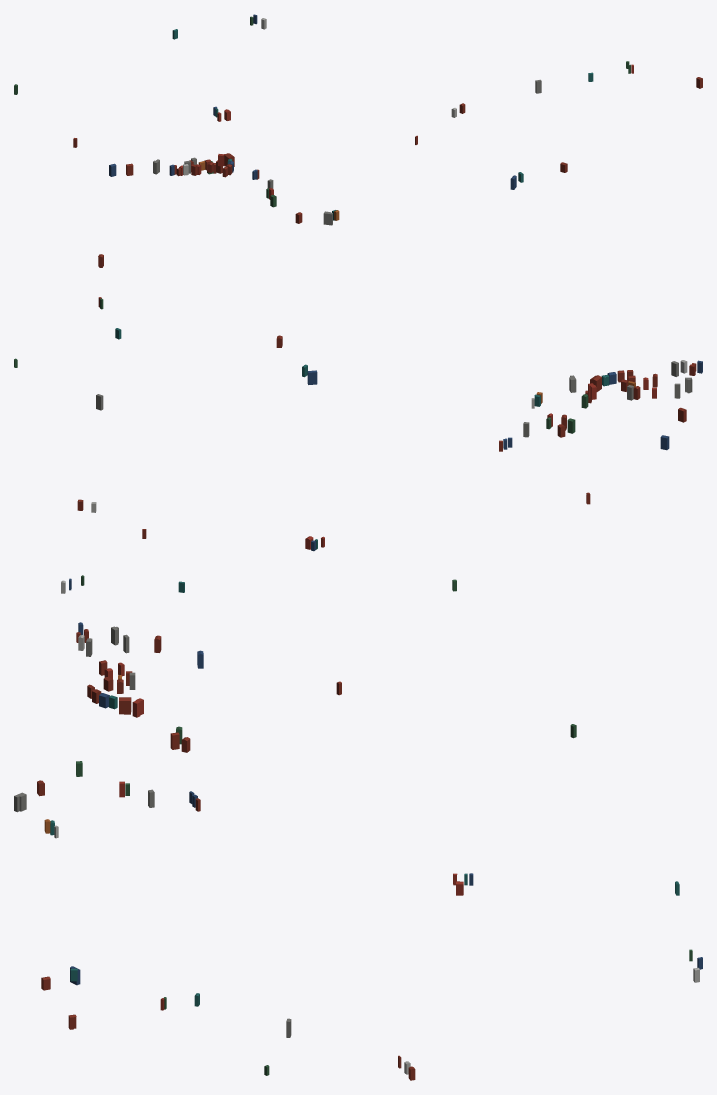
Rendered from near-15-27366-14858.3f3583a7.glb.
3 renders of one model, top to bottom at view 1: azimuth 30°, elevation 25°; view 2: azimuth 150°, elevation 25°; view 3: azimuth 270°, elevation 25°, orthographic. The views are drawn at different scales.
Size of the model in its own units: 1172 by 320 by 964.
